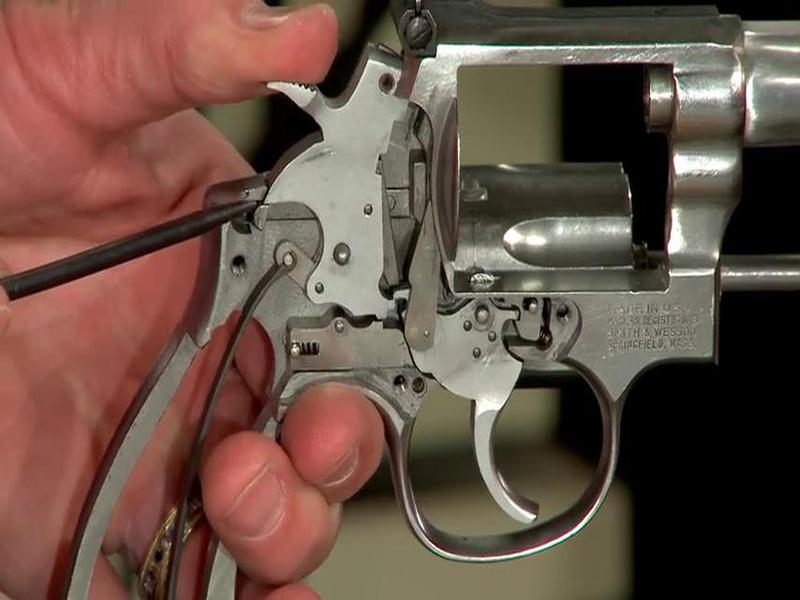Revolver: (56, 17, 800, 517)
